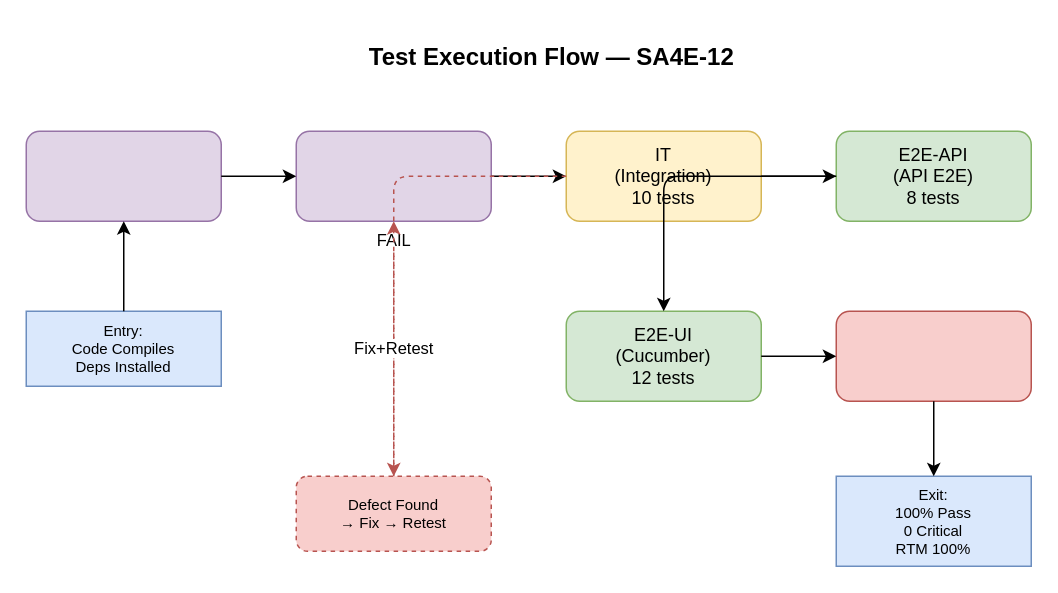
Some shapes in this 1058 by 593 pixel diagram are drawn without their labels. The centre of each missing label's shape, as x and y in pixels:
"PBT (Property-Based) 5 tests" belongs at (123,175).
"SIT (Manual) 6 tests" belongs at (933,355).
"UT (Unit Tests) 24 tests" belongs at (393,175).
